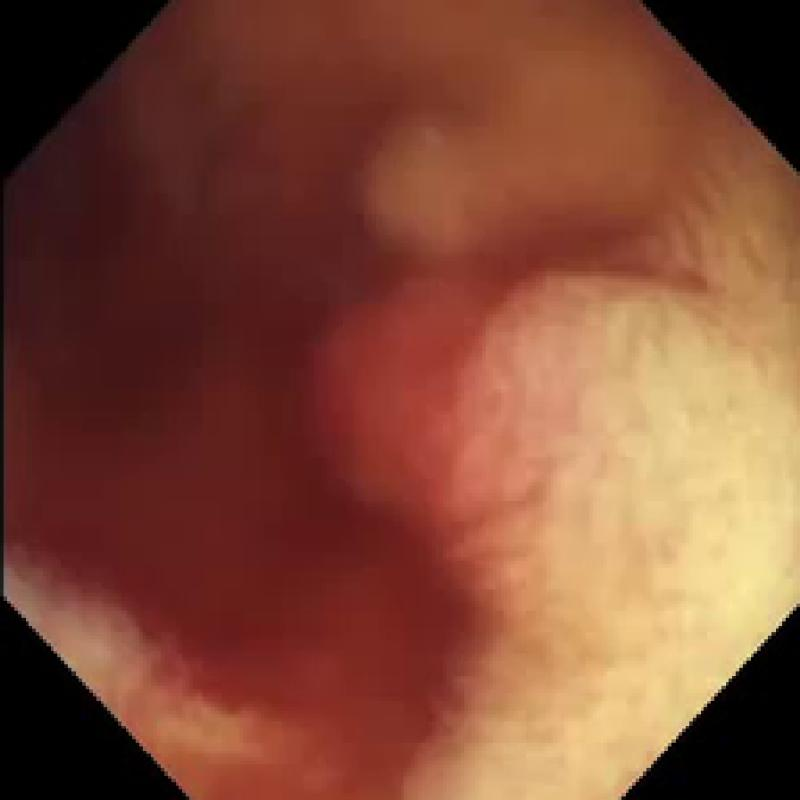bleeding: (0, 53, 610, 800)
